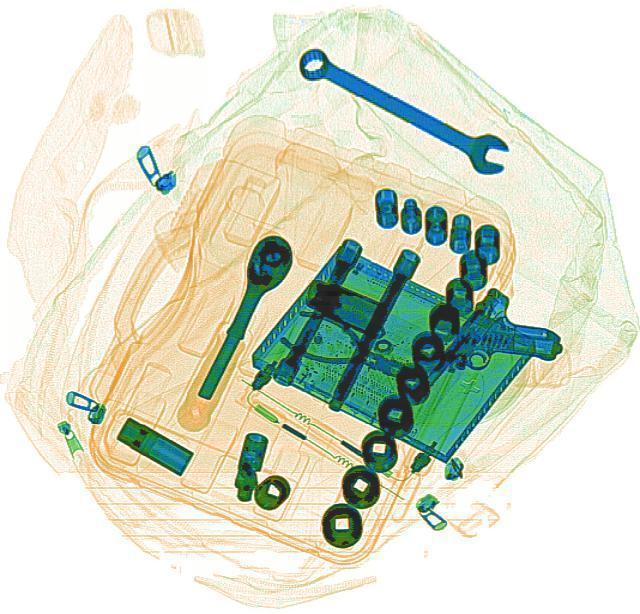Gun: (410, 282, 570, 426)
Pliers: (272, 300, 423, 397)
Wrench: (287, 36, 518, 180)
